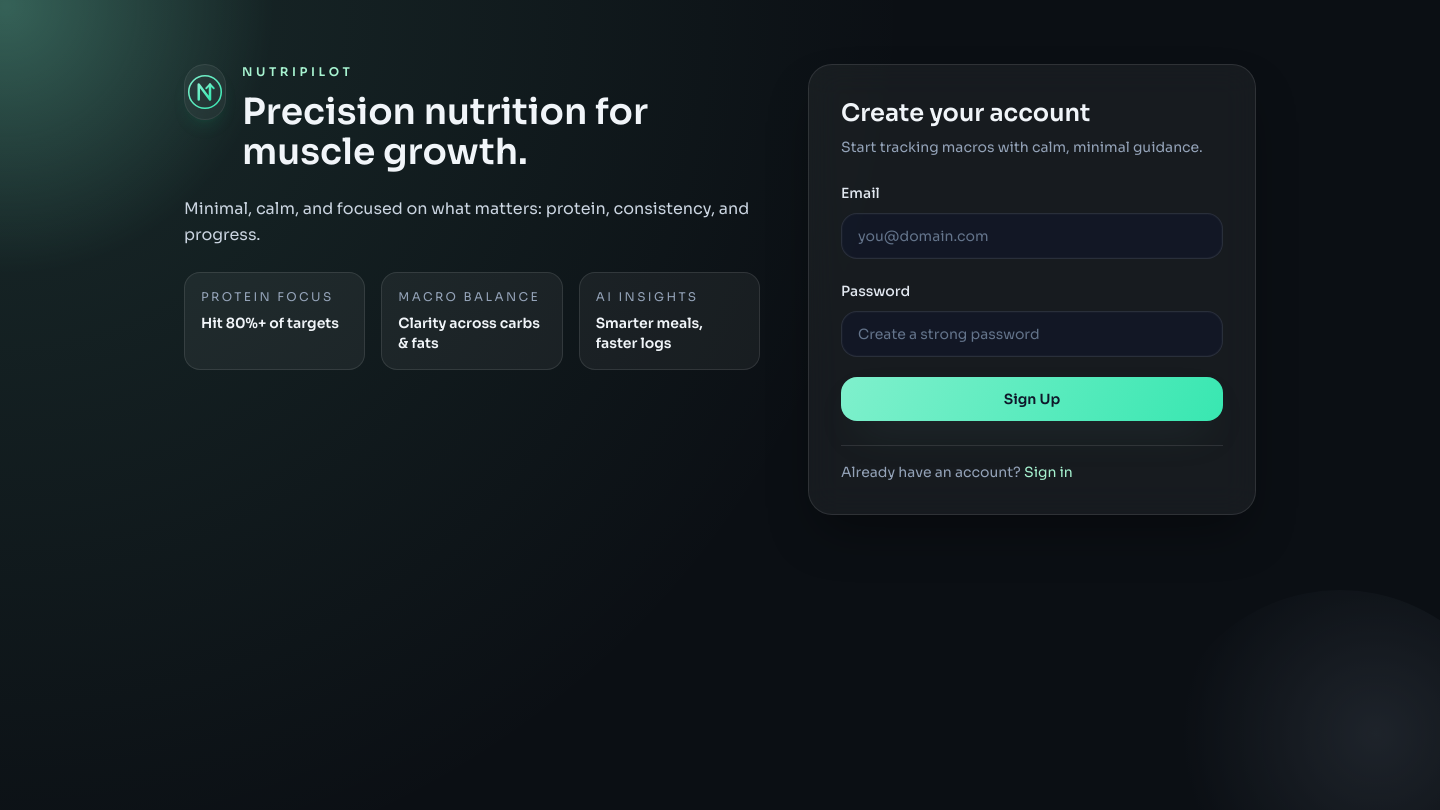
Scenario: RegisterForm › shows email exists error when registration fails
Type "user@example.com" into the field labelled "Email" at (1032, 236), box [841,213,1223,259]
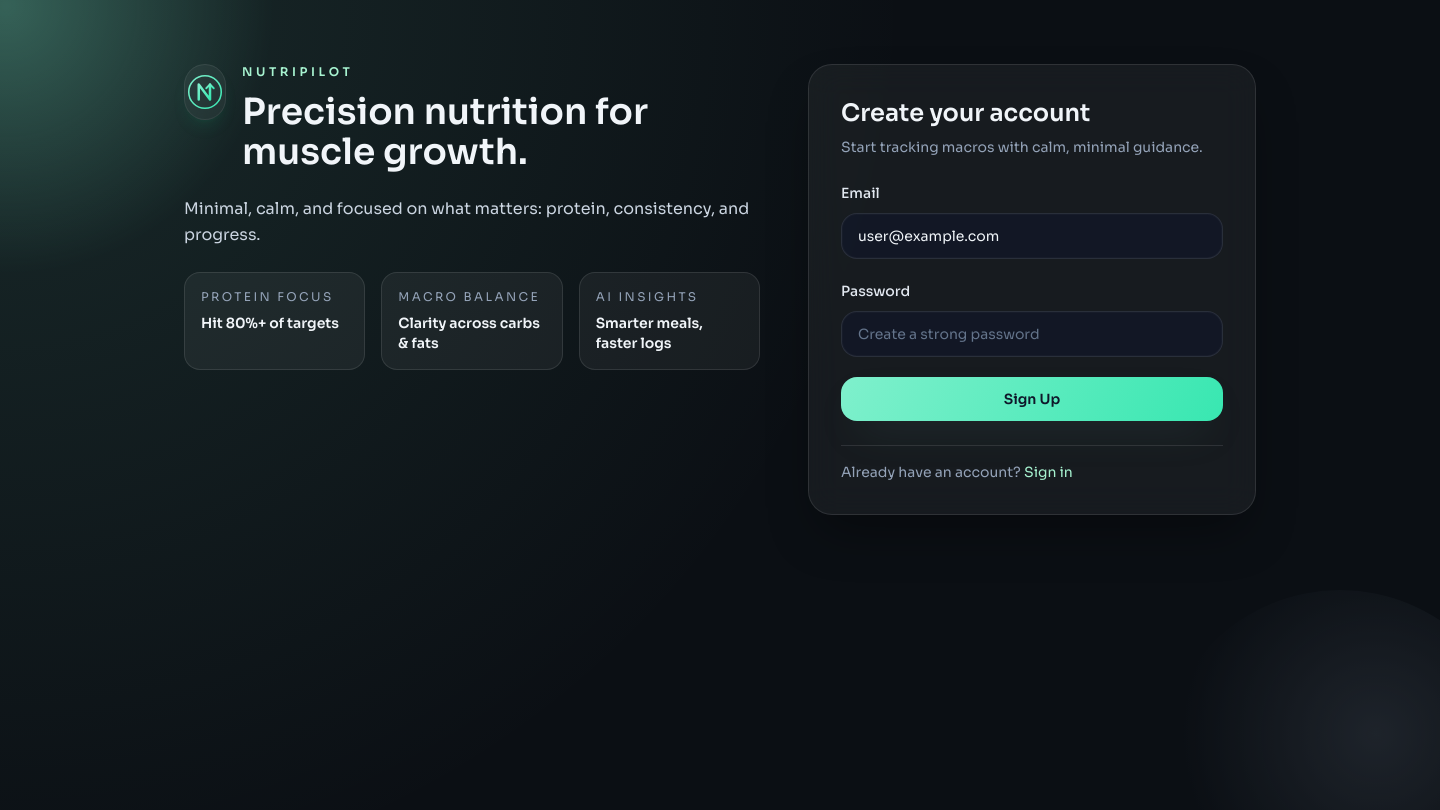
Type "StrongPass1" into the password field labelled "Password" at (1032, 334), box [841,311,1223,357]
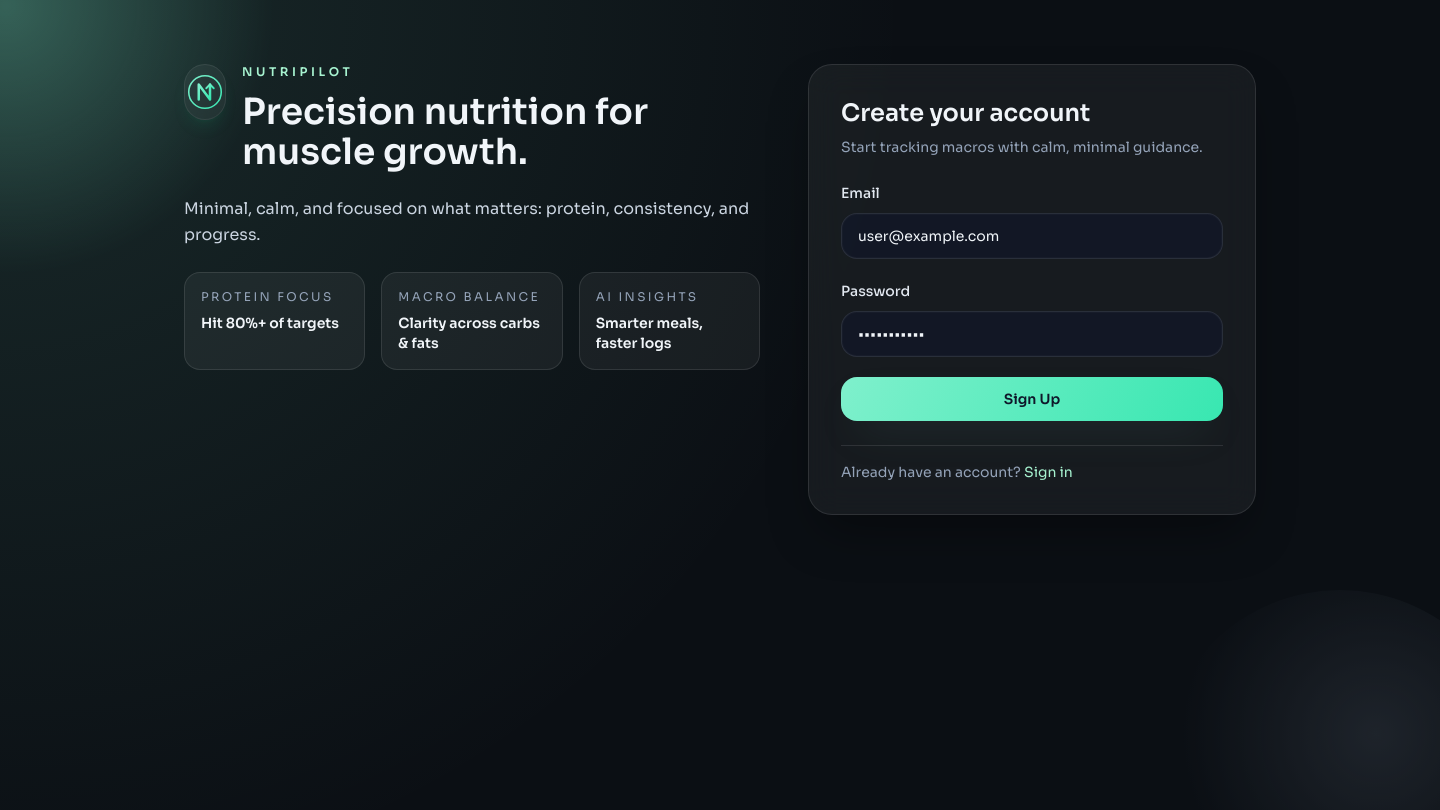
Click the button "Sign Up" at (1032, 399), box [841,377,1223,421]
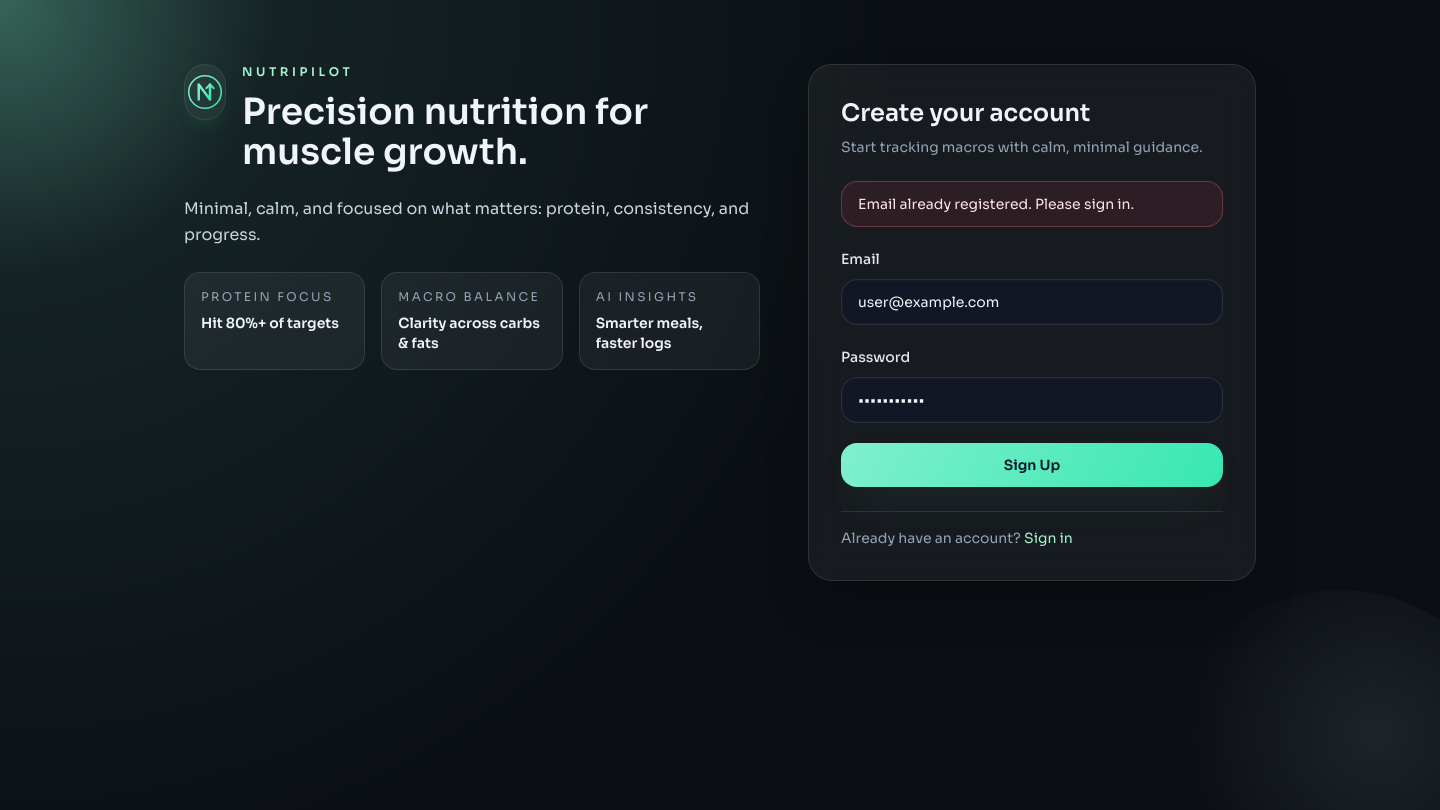
Now the text "Email already registered. Please sign in." is shown, box [841,181,1223,227]
